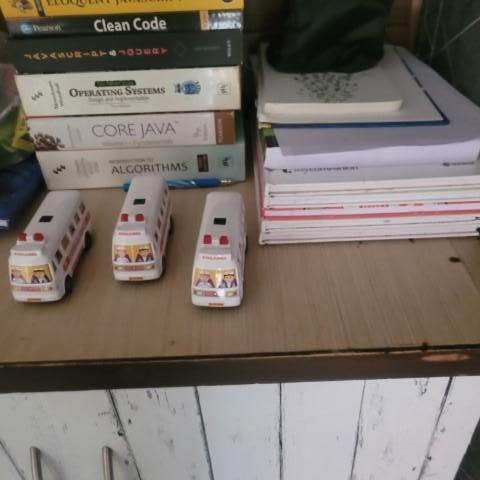ambulance: (6, 186, 93, 304), (189, 186, 249, 311), (111, 173, 175, 280)
